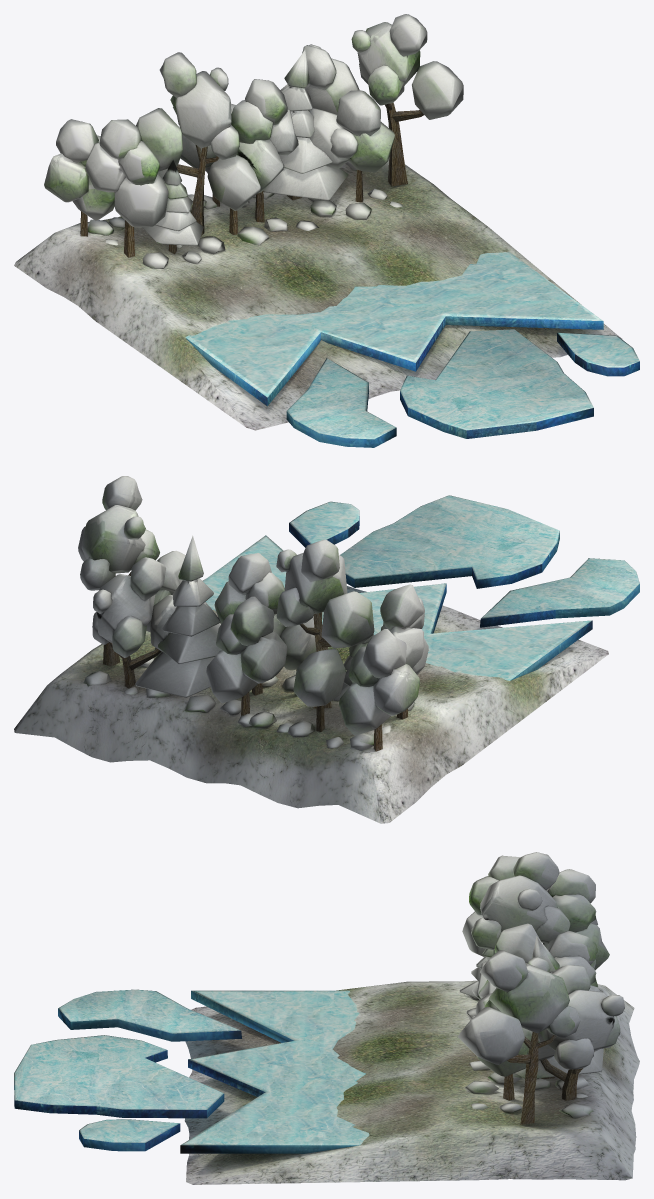
Rendered from winter_beach_01.FBX.
3 renders of one model, top to bottom at view 1: azimuth 30°, elevation 25°; view 2: azimuth 150°, elevation 25°; view 3: azimuth 270°, elevation 25°, orthographic. The views are drawn at different scales.
Visible parts, largest first — view 1: ice_01; view 2: ice_01; view 3: ice_01.
Part boxes in pixels (box(x1,y1,x2,y2)): ice_01: box(14, 14, 639, 447); ice_01: box(14, 476, 639, 823); ice_01: box(14, 852, 639, 1184).
Bounding box in the file's own units: 176 × 97.31 × 261.
Materials: 5 (5 with a texture image).
